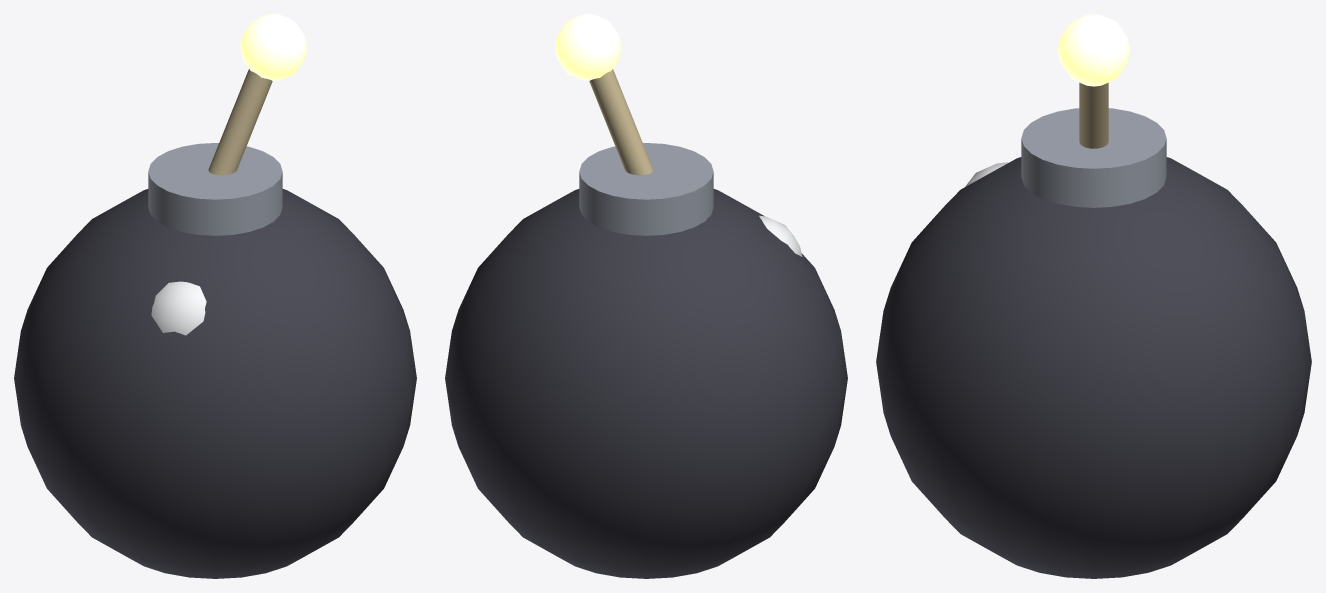
File: bomb.glb
3 views of the same model, side by side, from view 1: azimuth 30°, elevation 25°; view 2: azimuth 150°, elevation 25°; view 3: azimuth 270°, elevation 25° (orthographic). The views are drawn at different scales.
Visible parts, largest first — view 1: Sphere, Cylinder, Sphere.001, Cylinder.001, Sphere.002; view 2: Sphere, Cylinder, Sphere.001, Cylinder.001, Sphere.002; view 3: Sphere, Cylinder, Sphere.001, Cylinder.001.
Part boxes in pixels (box(x1,y1,x2,y2)): Sphere: box(14, 189, 416, 578); Cylinder: box(148, 143, 282, 235); Sphere.001: box(240, 14, 307, 80); Cylinder.001: box(208, 69, 272, 175); Sphere.002: box(151, 281, 206, 335); Sphere: box(445, 189, 847, 578); Cylinder: box(579, 143, 713, 235); Sphere.001: box(554, 14, 621, 80); Cylinder.001: box(589, 69, 653, 175); Sphere.002: box(759, 215, 802, 256); Sphere: box(876, 157, 1311, 578); Cylinder: box(1021, 108, 1166, 207); Sphere.001: box(1057, 14, 1130, 86); Cylinder.001: box(1079, 82, 1108, 148).
Bounding box in the file's own units: 0.6 × 0.87 × 0.6.
